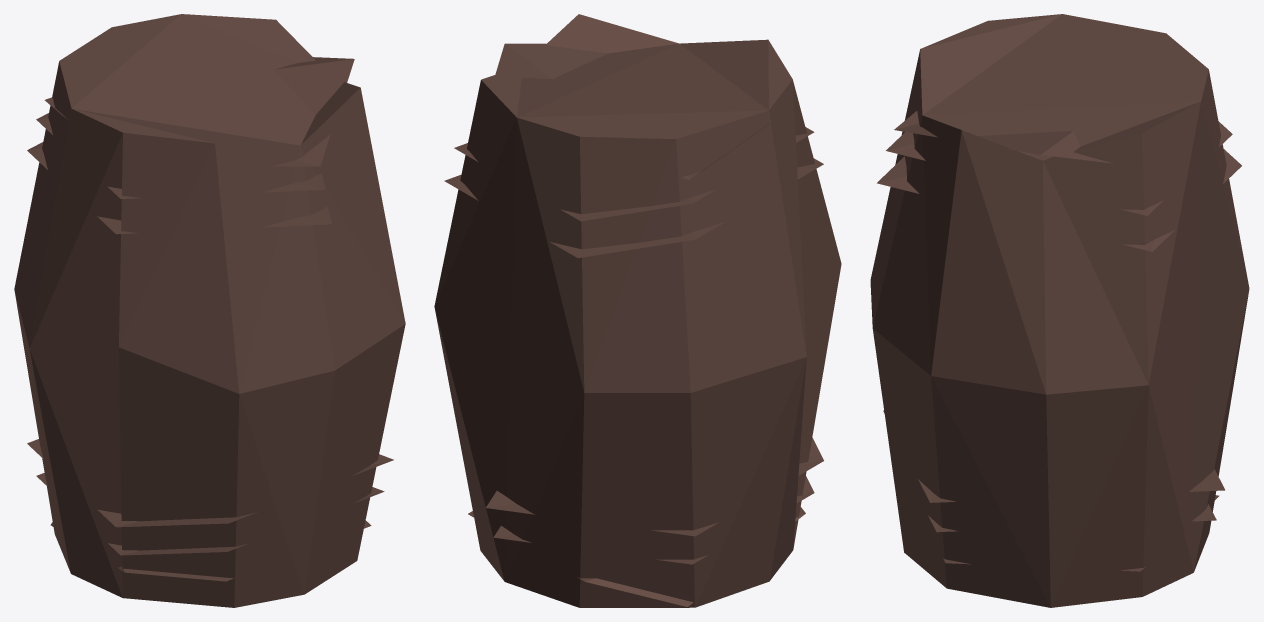
The model's file is barrel.glb.
3 renders of one model, left to right at view 1: azimuth 30°, elevation 25°; view 2: azimuth 150°, elevation 25°; view 3: azimuth 270°, elevation 25°, orthographic.
Parts seen in each view (by area): view 1: Barrel; view 2: Barrel; view 3: Barrel.
Boxes of the visible parts, x1,y1,x2,y2 form: Barrel: (14, 14, 405, 607); Barrel: (434, 14, 841, 607); Barrel: (870, 14, 1249, 607).
Size of the model in its own units: 104 by 134 by 99.16.
